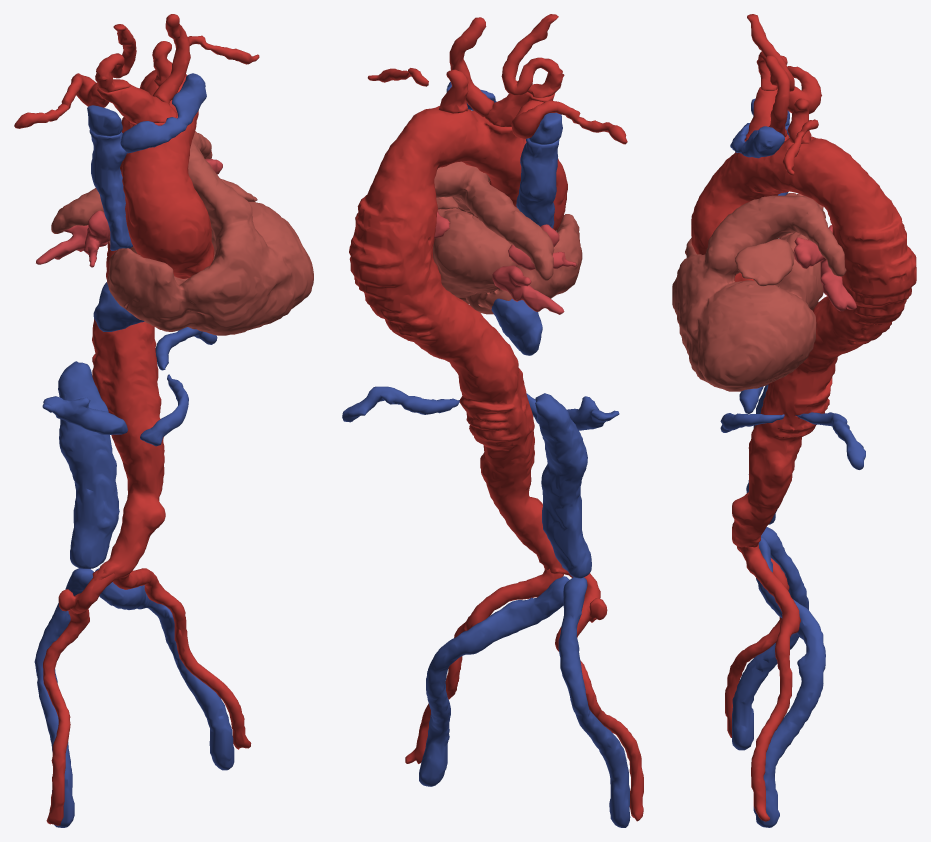
File: tsd_s0196_older_adult_female.cardiovascular.LOD1.glb
3 views of the same model, side by side, from view 1: azimuth 30°, elevation 25°; view 2: azimuth 150°, elevation 25°; view 3: azimuth 270°, elevation 25° (orthographic). The views are drawn at different scales.
Visible parts, largest first — view 1: TSD_S0196.OLDER_ADULT.FEMALE.CARDIOVASCULAR.AORTA, TSD_S0196.OLDER_ADULT.FEMALE.CARDIOVASCULAR.HEART_ALL_CHAMBE, TSD_S0196.OLDER_ADULT.FEMALE.CARDIOVASCULAR.INFERIOR_VENA_CA, TSD_S0196.OLDER_ADULT.FEMALE.CARDIOVASCULAR.BRACHIOCEPHALIC_ (×3), TSD_S0196.OLDER_ADULT.FEMALE.CARDIOVASCULAR.ILIAC_ARTERY.R, TSD_S0196.OLDER_ADULT.FEMALE.CARDIOVASCULAR.PORTAL_VEIN_AND_, TSD_S0196.OLDER_ADULT.FEMALE.CARDIOVASCULAR.ILIAC_VEIN.L, TSD_S0196.OLDER_ADULT.FEMALE.CARDIOVASCULAR.ILIAC_ARTERY.L, TSD_S0196.OLDER_ADULT.FEMALE.CARDIOVASCULAR.COMMON_CAROTID_A (×2), TSD_S0196.OLDER_ADULT.FEMALE.CARDIOVASCULAR.SUPERIOR_VENA_CA, TSD_S0196.OLDER_ADULT.FEMALE.CARDIOVASCULAR.SUBCLAVIAN_ARTER (×2), TSD_S0196.OLDER_ADULT.FEMALE.CARDIOVASCULAR.ILIAC_VEIN.R (+1 smaller); view 2: TSD_S0196.OLDER_ADULT.FEMALE.CARDIOVASCULAR.AORTA, TSD_S0196.OLDER_ADULT.FEMALE.CARDIOVASCULAR.HEART_ALL_CHAMBE, TSD_S0196.OLDER_ADULT.FEMALE.CARDIOVASCULAR.INFERIOR_VENA_CA, TSD_S0196.OLDER_ADULT.FEMALE.CARDIOVASCULAR.ILIAC_VEIN.L, TSD_S0196.OLDER_ADULT.FEMALE.CARDIOVASCULAR.ILIAC_VEIN.R, TSD_S0196.OLDER_ADULT.FEMALE.CARDIOVASCULAR.COMMON_CAROTID_A (×2), TSD_S0196.OLDER_ADULT.FEMALE.CARDIOVASCULAR.SUBCLAVIAN_ARTER (×2), TSD_S0196.OLDER_ADULT.FEMALE.CARDIOVASCULAR.ILIAC_ARTERY.R, TSD_S0196.OLDER_ADULT.FEMALE.CARDIOVASCULAR.SUPERIOR_VENA_CA, TSD_S0196.OLDER_ADULT.FEMALE.CARDIOVASCULAR.PORTAL_VEIN_AND_, TSD_S0196.OLDER_ADULT.FEMALE.CARDIOVASCULAR.ILIAC_ARTERY.L, TSD_S0196.OLDER_ADULT.FEMALE.CARDIOVASCULAR.PULMONARY_VEINS_ (+1 smaller); view 3: TSD_S0196.OLDER_ADULT.FEMALE.CARDIOVASCULAR.AORTA, TSD_S0196.OLDER_ADULT.FEMALE.CARDIOVASCULAR.HEART_ALL_CHAMBE, TSD_S0196.OLDER_ADULT.FEMALE.CARDIOVASCULAR.ILIAC_VEIN.L, TSD_S0196.OLDER_ADULT.FEMALE.CARDIOVASCULAR.ILIAC_ARTERY.L, TSD_S0196.OLDER_ADULT.FEMALE.CARDIOVASCULAR.ILIAC_VEIN.R, TSD_S0196.OLDER_ADULT.FEMALE.CARDIOVASCULAR.PORTAL_VEIN_AND_, TSD_S0196.OLDER_ADULT.FEMALE.CARDIOVASCULAR.COMMON_CAROTID_A (×2), TSD_S0196.OLDER_ADULT.FEMALE.CARDIOVASCULAR.SUBCLAVIAN_ARTER (×2), TSD_S0196.OLDER_ADULT.FEMALE.CARDIOVASCULAR.BRACHIOCEPHALIC_ (×2), TSD_S0196.OLDER_ADULT.FEMALE.CARDIOVASCULAR.LEFT_ATRIAL_APPE, TSD_S0196.OLDER_ADULT.FEMALE.CARDIOVASCULAR.PULMONARY_VEINS_, TSD_S0196.OLDER_ADULT.FEMALE.CARDIOVASCULAR.ILIAC_ARTERY.R.
Boxes of the visible parts, box(x1,y1,x2,y2) form: TSD_S0196.OLDER_ADULT.FEMALE.CARDIOVASCULAR.AORTA: box(92, 70, 214, 580); TSD_S0196.OLDER_ADULT.FEMALE.CARDIOVASCULAR.HEART_ALL_CHAMBE: box(51, 131, 313, 335); TSD_S0196.OLDER_ADULT.FEMALE.CARDIOVASCULAR.INFERIOR_VENA_CA: box(58, 282, 144, 568); TSD_S0196.OLDER_ADULT.FEMALE.CARDIOVASCULAR.BRACHIOCEPHALIC_ (×3): box(87, 73, 206, 153); TSD_S0196.OLDER_ADULT.FEMALE.CARDIOVASCULAR.ILIAC_ARTERY.R: box(43, 565, 115, 825); TSD_S0196.OLDER_ADULT.FEMALE.CARDIOVASCULAR.PORTAL_VEIN_AND_: box(42, 327, 217, 446); TSD_S0196.OLDER_ADULT.FEMALE.CARDIOVASCULAR.ILIAC_VEIN.L: box(95, 568, 234, 770); TSD_S0196.OLDER_ADULT.FEMALE.CARDIOVASCULAR.ILIAC_ARTERY.L: box(113, 568, 251, 749); TSD_S0196.OLDER_ADULT.FEMALE.CARDIOVASCULAR.COMMON_CAROTID_A (×2): box(95, 14, 190, 104); TSD_S0196.OLDER_ADULT.FEMALE.CARDIOVASCULAR.SUPERIOR_VENA_CA: box(89, 130, 132, 250); TSD_S0196.OLDER_ADULT.FEMALE.CARDIOVASCULAR.SUBCLAVIAN_ARTER (×2): box(14, 35, 259, 128); TSD_S0196.OLDER_ADULT.FEMALE.CARDIOVASCULAR.ILIAC_VEIN.R: box(34, 568, 93, 827); TSD_S0196.OLDER_ADULT.FEMALE.CARDIOVASCULAR.AORTA: box(349, 106, 570, 575); TSD_S0196.OLDER_ADULT.FEMALE.CARDIOVASCULAR.HEART_ALL_CHAMBE: box(433, 161, 582, 314); TSD_S0196.OLDER_ADULT.FEMALE.CARDIOVASCULAR.INFERIOR_VENA_CA: box(491, 298, 591, 578); TSD_S0196.OLDER_ADULT.FEMALE.CARDIOVASCULAR.ILIAC_VEIN.L: box(419, 576, 569, 786); TSD_S0196.OLDER_ADULT.FEMALE.CARDIOVASCULAR.ILIAC_VEIN.R: box(558, 577, 630, 827); TSD_S0196.OLDER_ADULT.FEMALE.CARDIOVASCULAR.COMMON_CAROTID_A (×2): box(449, 14, 564, 117); TSD_S0196.OLDER_ADULT.FEMALE.CARDIOVASCULAR.SUBCLAVIAN_ARTER (×2): box(367, 68, 627, 144); TSD_S0196.OLDER_ADULT.FEMALE.CARDIOVASCULAR.ILIAC_ARTERY.R: box(555, 565, 643, 821); TSD_S0196.OLDER_ADULT.FEMALE.CARDIOVASCULAR.SUPERIOR_VENA_CA: box(516, 138, 559, 228); TSD_S0196.OLDER_ADULT.FEMALE.CARDIOVASCULAR.PORTAL_VEIN_AND_: box(342, 386, 619, 430); TSD_S0196.OLDER_ADULT.FEMALE.CARDIOVASCULAR.ILIAC_ARTERY.L: box(405, 568, 563, 763); TSD_S0196.OLDER_ADULT.FEMALE.CARDIOVASCULAR.PULMONARY_VEINS_: box(434, 211, 576, 314); TSD_S0196.OLDER_ADULT.FEMALE.CARDIOVASCULAR.AORTA: box(691, 134, 916, 547); TSD_S0196.OLDER_ADULT.FEMALE.CARDIOVASCULAR.HEART_ALL_CHAMBE: box(672, 193, 846, 391); TSD_S0196.OLDER_ADULT.FEMALE.CARDIOVASCULAR.ILIAC_VEIN.L: box(753, 537, 825, 827); TSD_S0196.OLDER_ADULT.FEMALE.CARDIOVASCULAR.ILIAC_ARTERY.L: box(737, 544, 800, 821); TSD_S0196.OLDER_ADULT.FEMALE.CARDIOVASCULAR.ILIAC_VEIN.R: box(732, 527, 808, 750); TSD_S0196.OLDER_ADULT.FEMALE.CARDIOVASCULAR.PORTAL_VEIN_AND_: box(720, 386, 865, 469); TSD_S0196.OLDER_ADULT.FEMALE.CARDIOVASCULAR.COMMON_CAROTID_A (×2): box(747, 14, 794, 136); TSD_S0196.OLDER_ADULT.FEMALE.CARDIOVASCULAR.SUBCLAVIAN_ARTER (×2): box(781, 55, 821, 175); TSD_S0196.OLDER_ADULT.FEMALE.CARDIOVASCULAR.BRACHIOCEPHALIC_ (×2): box(730, 87, 787, 158); TSD_S0196.OLDER_ADULT.FEMALE.CARDIOVASCULAR.LEFT_ATRIAL_APPE: box(735, 238, 794, 286); TSD_S0196.OLDER_ADULT.FEMALE.CARDIOVASCULAR.PULMONARY_VEINS_: box(779, 225, 856, 311); TSD_S0196.OLDER_ADULT.FEMALE.CARDIOVASCULAR.ILIAC_ARTERY.R: box(725, 547, 789, 737).
Bounding box in the file's own units: 0.1902 × 0.5284 × 0.1533.
